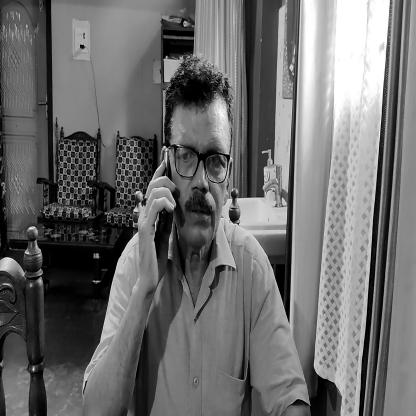Normal: (160, 55, 234, 258)
